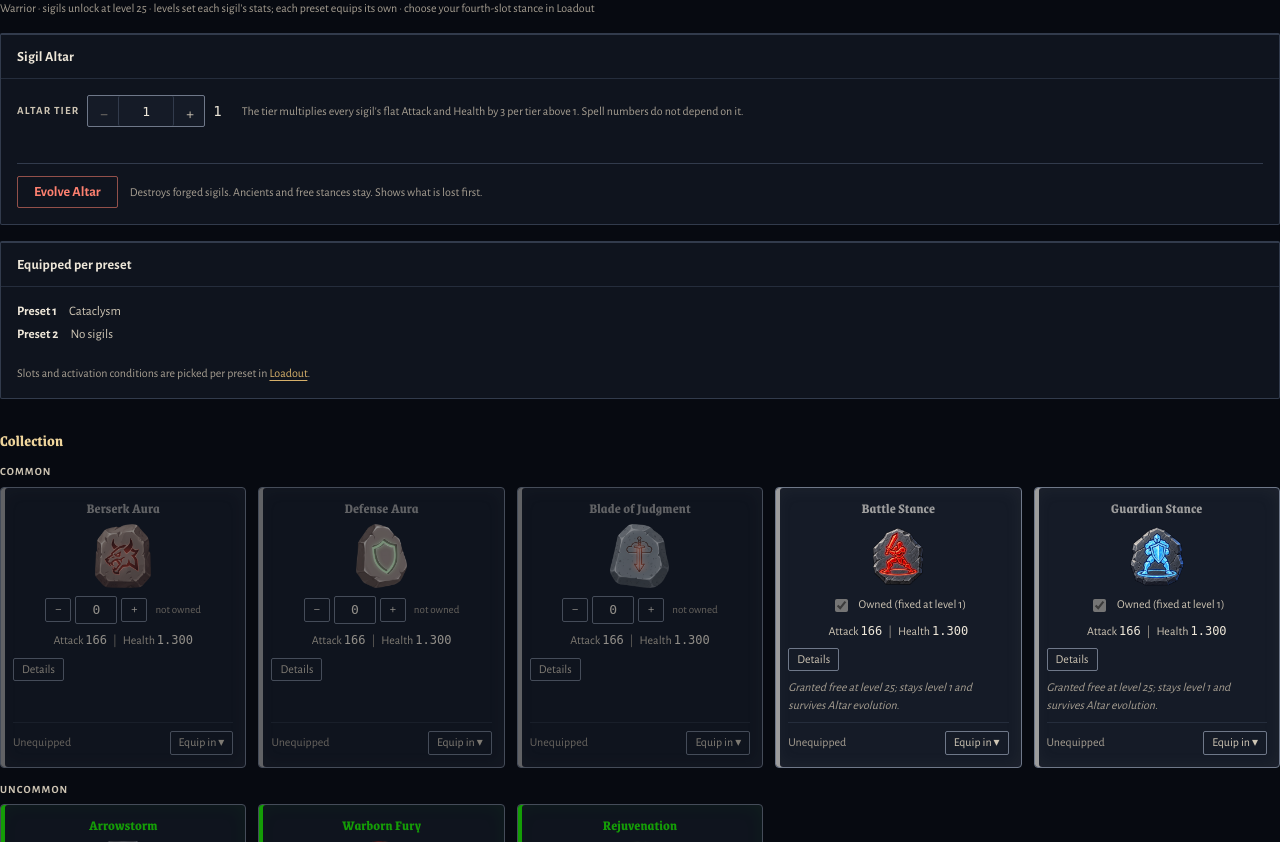
Test case: altar › Evolve names the presets that lose an equipped sigil
Click the button "Evolve Altar": (67, 192) x1=17 y1=176 x2=118 y2=208
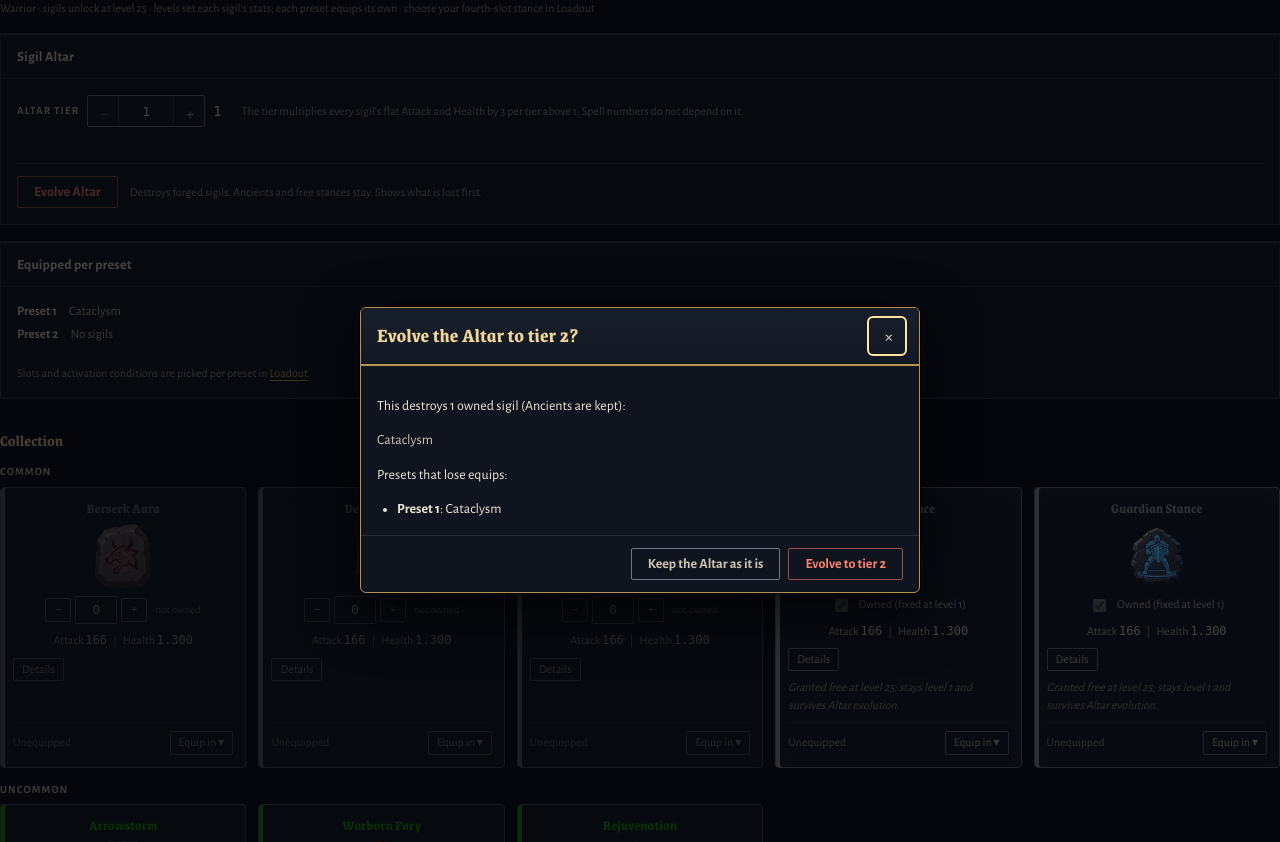
Expected: the dialog shows "Presets that lose equips", x1=377 y1=468 x2=508 y2=482
Expected: the dialog shows "Preset 1", x1=397 y1=502 x2=440 y2=516
